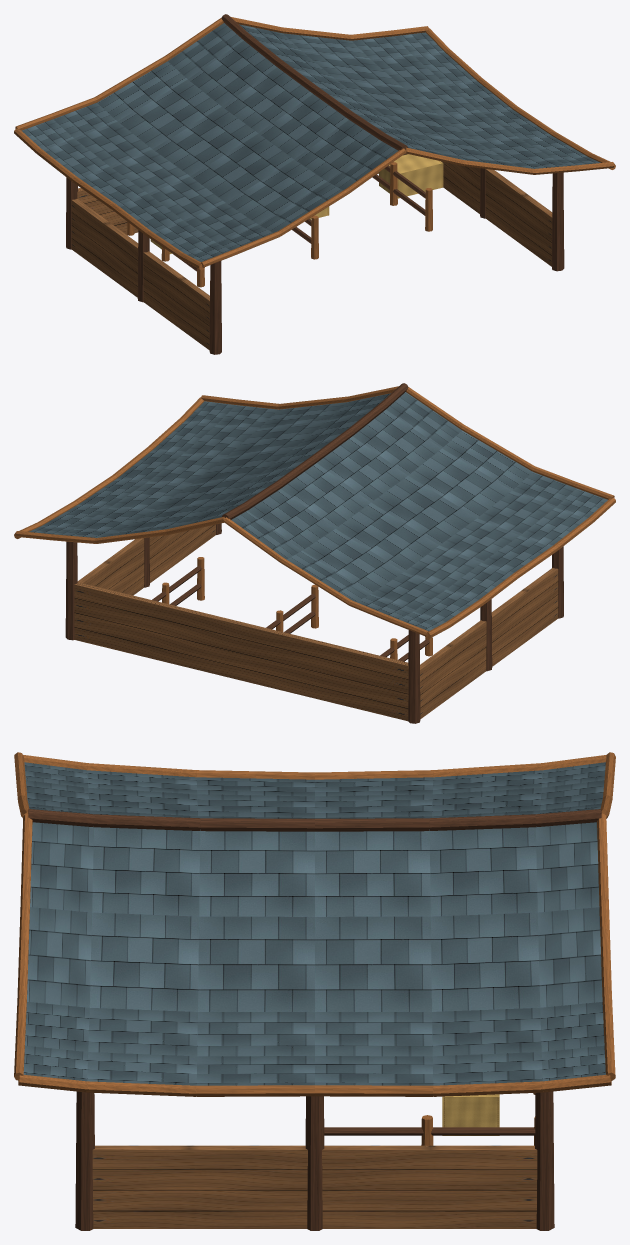
File: stable.glb
3 views of the same model, one above another, from view 1: azimuth 30°, elevation 25°; view 2: azimuth 150°, elevation 25°; view 3: azimuth 270°, elevation 25° (orthographic). The views are drawn at different scales.
Parts seen in each view (by area): view 1: stable_F4; view 2: stable_F4; view 3: stable_F4.
Part boxes in pixels (x1,y1,x2,y2): stable_F4: [14, 14, 615, 354]; stable_F4: [14, 383, 615, 723]; stable_F4: [14, 752, 615, 1230].
Size of the model in its own units: 13.39 by 5.47 by 10.49.
1 material, 1 textured.
